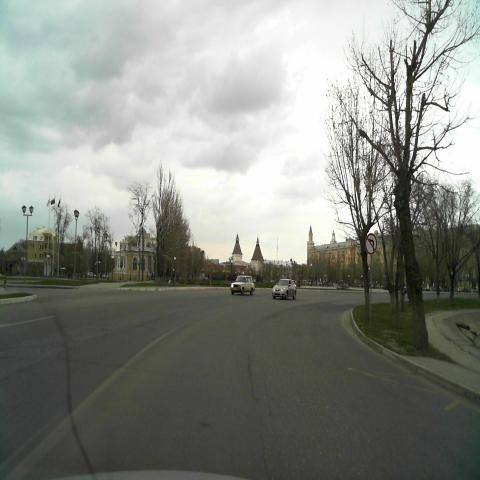3_18_2: (364, 232, 378, 256)
